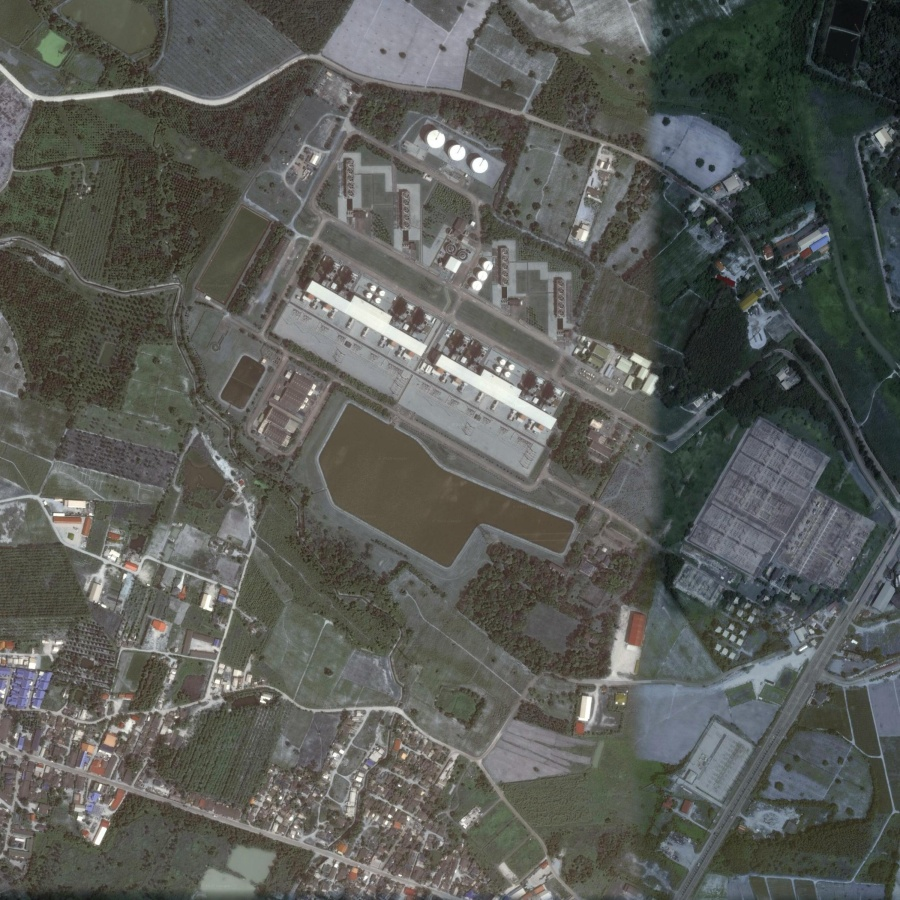PowerPlant: (223, 116, 677, 574)
